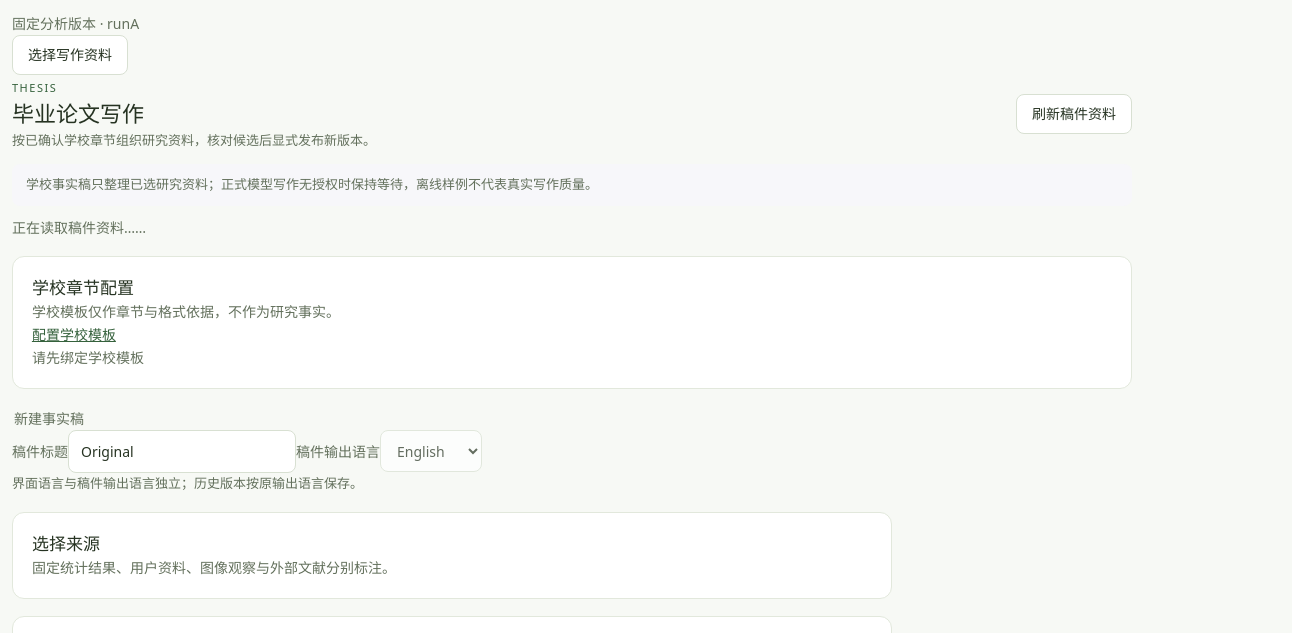
Test: sends explicitly selected historical A to thesis via server-verified packet without latest/model/save request
Click the button "选择写作资料" at (70, 55), box [12, 35, 128, 75]
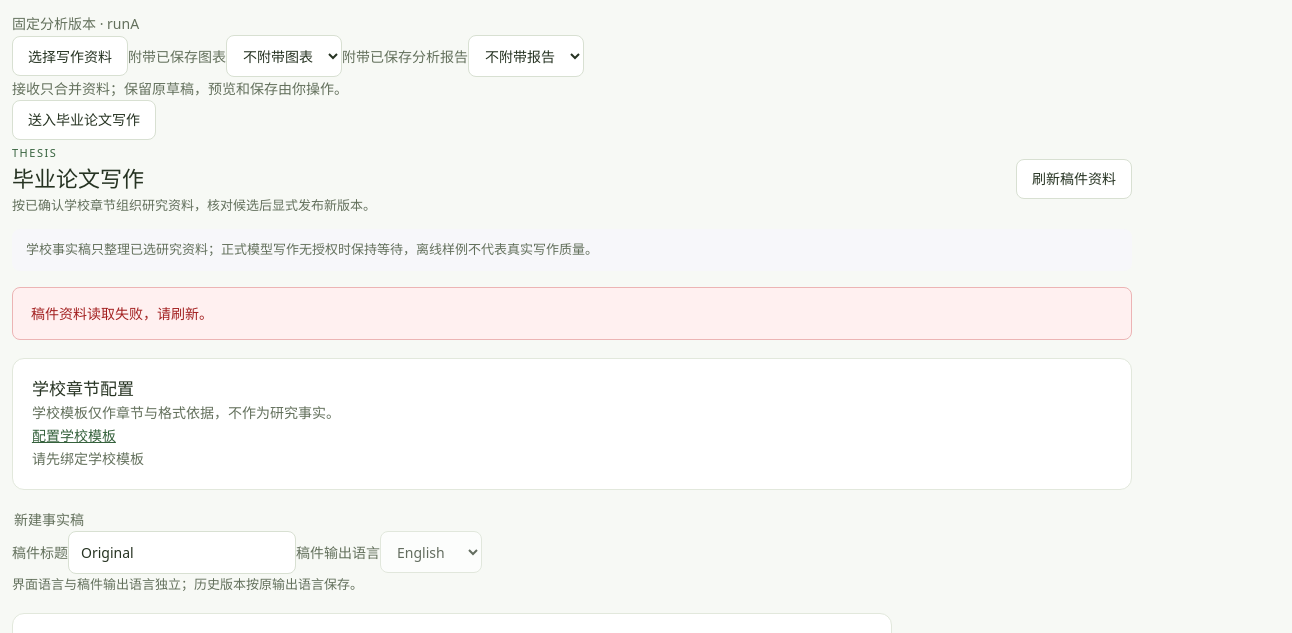
Click the button "送入毕业论文写作" at (84, 120), box [12, 100, 156, 140]
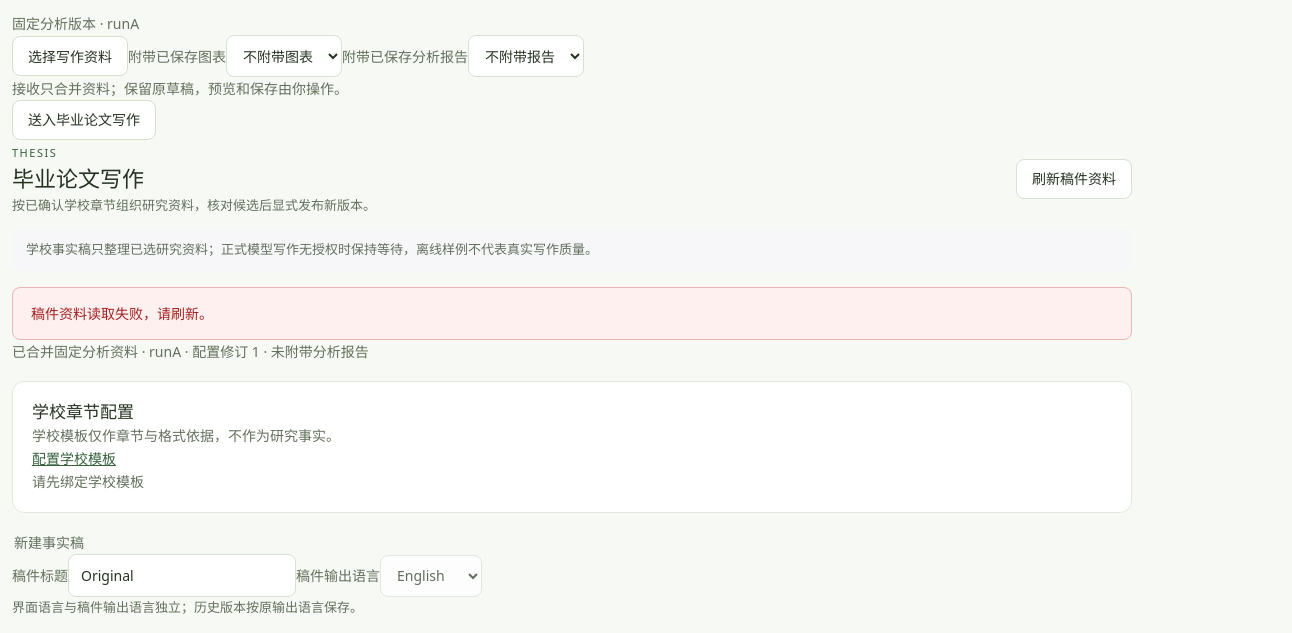
Now the text "已合并固定分析资料 · runA · 配置修订 1 · 未附带分析报告" is shown, box [12, 342, 369, 361]
